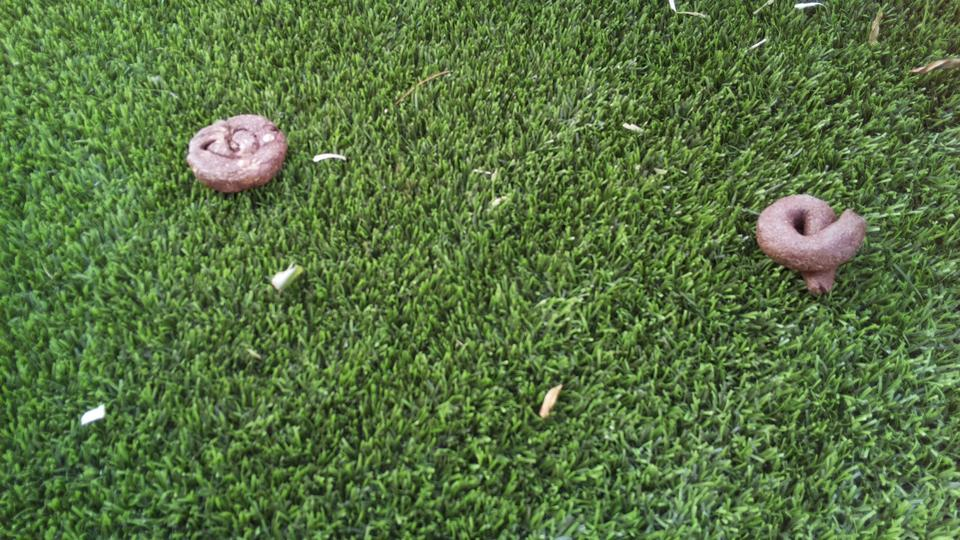poop: (750, 191, 871, 298), (186, 112, 289, 196)
